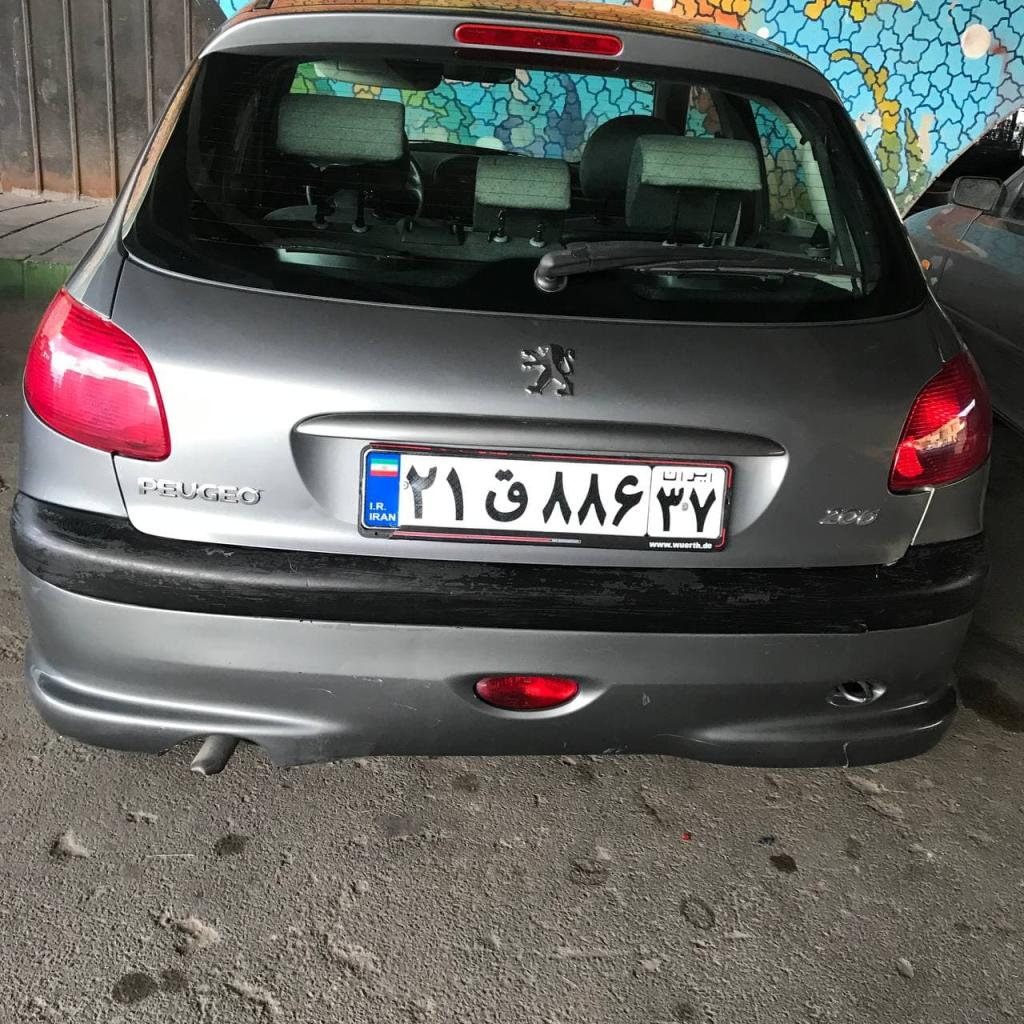Plates: (362, 450, 727, 538)
